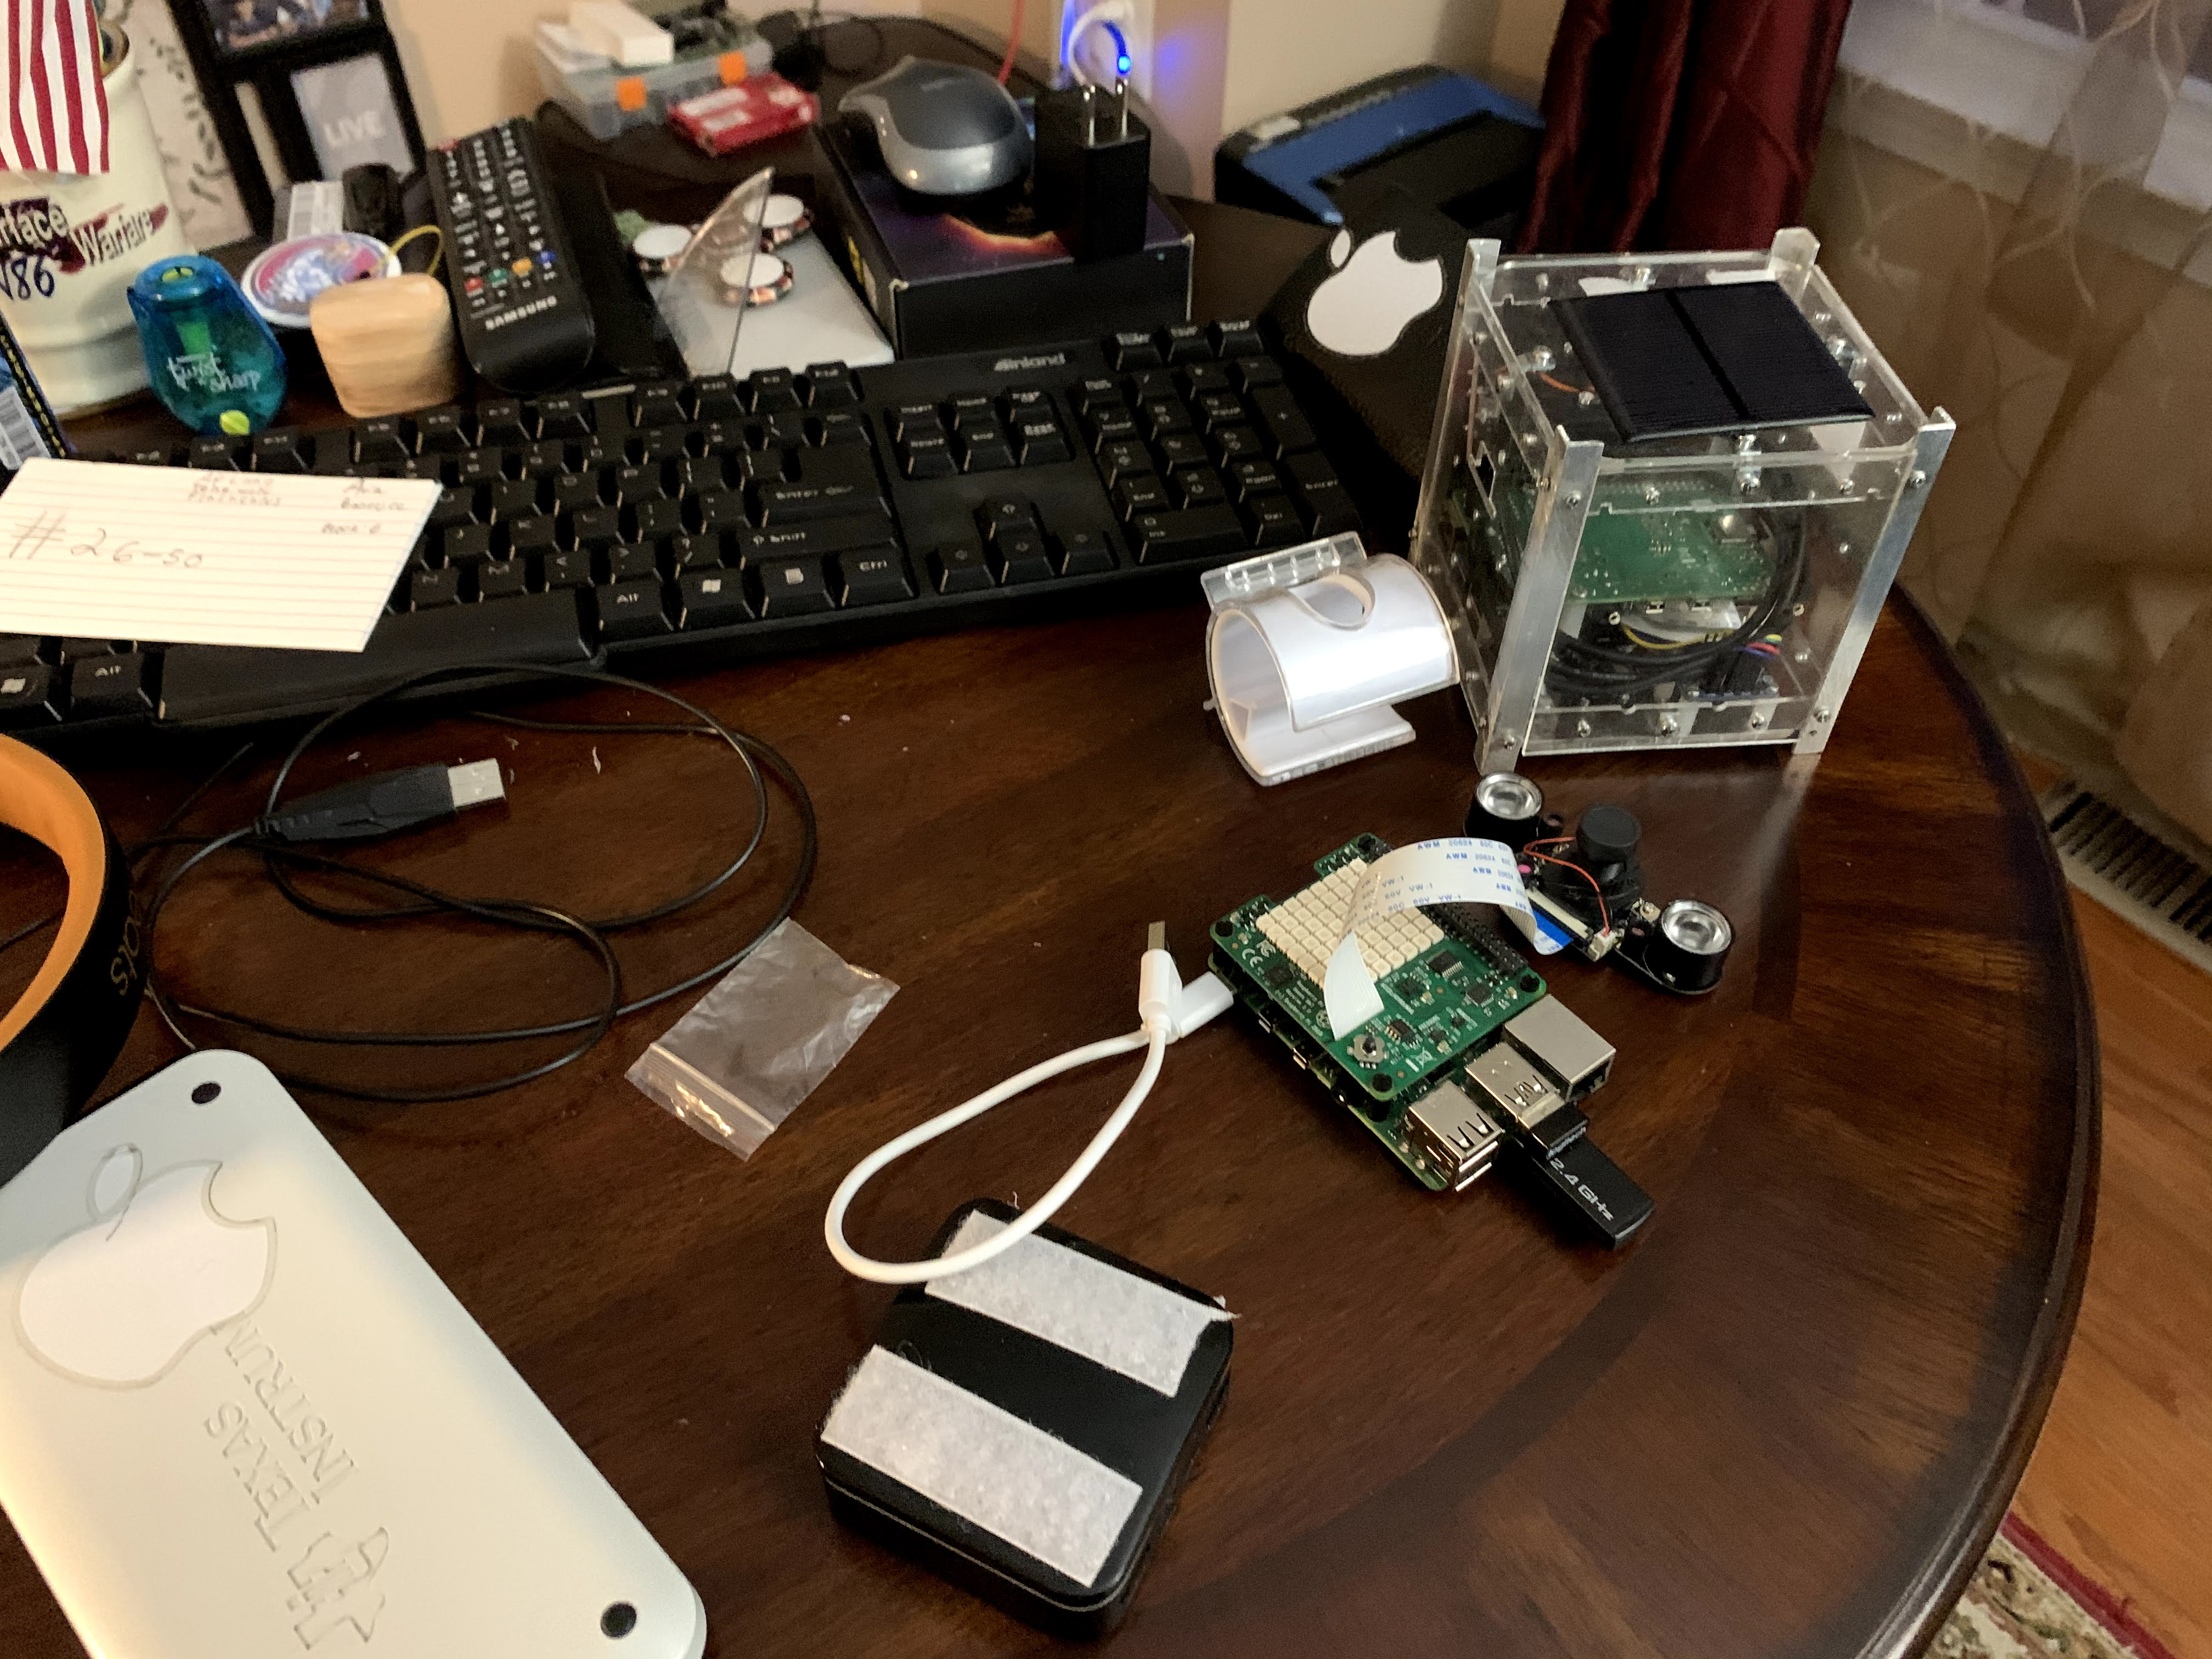Space-debris-cubesat: (1402, 214, 1949, 774)
